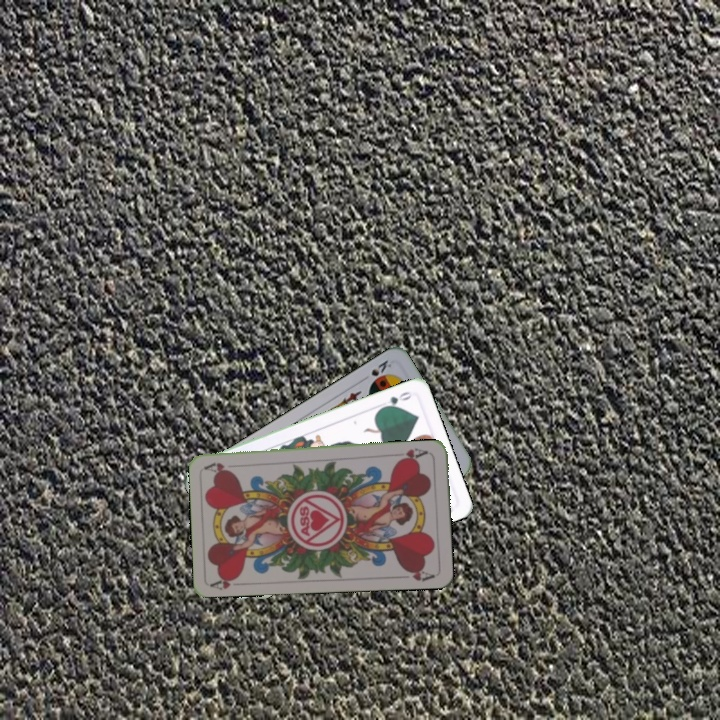GO: (377, 387, 414, 412)
HA: (208, 572, 248, 592), (392, 444, 430, 464)
SK: (358, 356, 395, 384)
